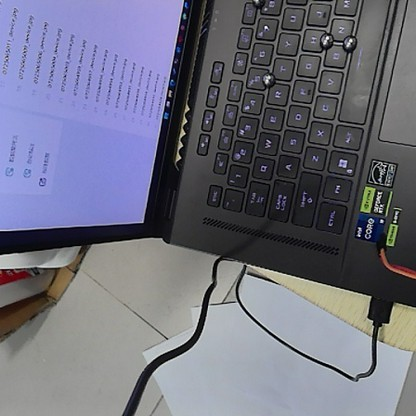ironball: (316, 30, 335, 51), (340, 31, 357, 52), (259, 71, 276, 91), (249, 0, 270, 10)
